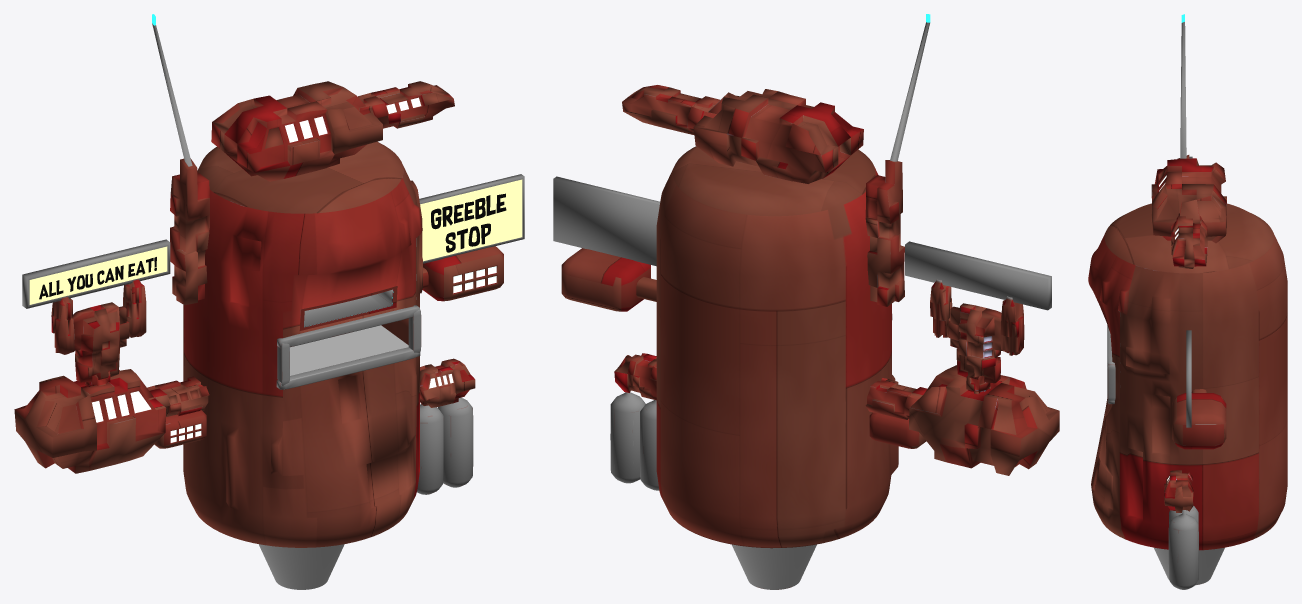
Rendered from spacestation.glb.
3 renders of one model, left to right at view 1: azimuth 30°, elevation 25°; view 2: azimuth 150°, elevation 25°; view 3: azimuth 270°, elevation 25°, orthographic. The views are drawn at different scales.
Visible parts, largest first — view 1: spaceStation; view 2: spaceStation; view 3: spaceStation.
Boxes of the visible parts, x1,y1,x2,y2 form: spaceStation: (14,14,524,589); spaceStation: (553,14,1059,589); spaceStation: (1088,14,1287,589).
Bounding box in the file's own units: 4.85 × 5.62 × 2.03.
Materials: 6 (1 with a texture image).
